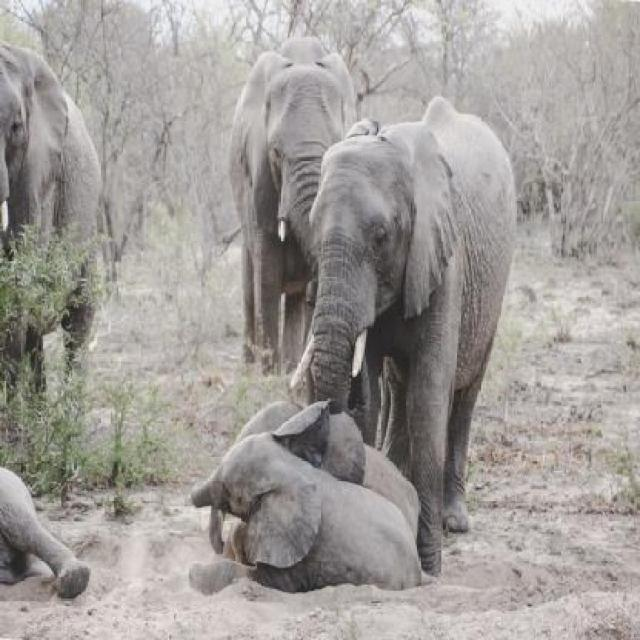Elephant: (292, 95, 520, 577), (226, 27, 354, 382)
